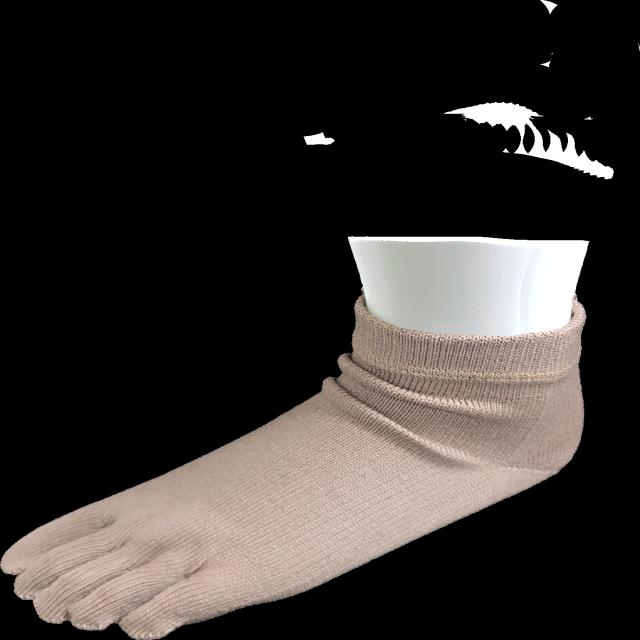sock: (1, 237, 590, 638)
